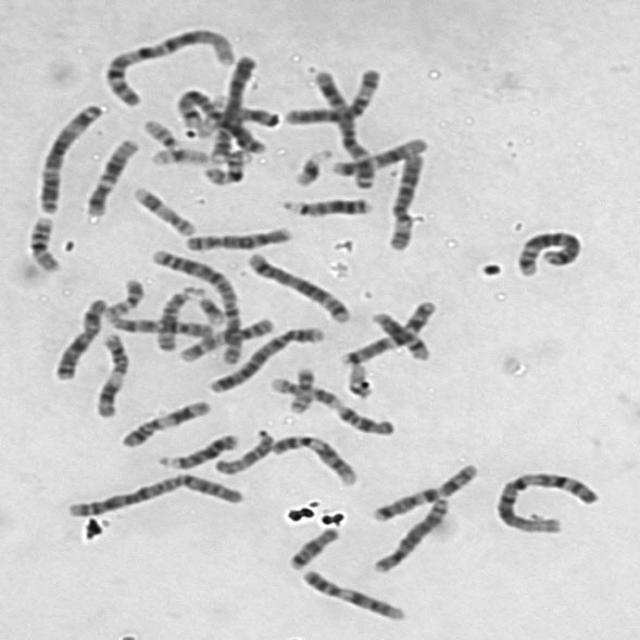A1: (96, 19, 239, 108), (487, 462, 602, 536)
A2: (143, 242, 249, 368), (56, 465, 245, 519)
A3: (304, 62, 377, 190), (30, 96, 106, 215)
B4: (202, 319, 328, 394), (203, 48, 260, 166)
B5: (239, 245, 354, 324), (510, 222, 584, 277)
C10: (171, 310, 277, 363), (100, 307, 216, 340)
C11: (112, 392, 213, 450), (86, 326, 130, 419)
C12: (77, 131, 141, 217), (324, 129, 430, 176)
C6: (277, 60, 386, 127), (378, 146, 428, 252)
C7: (363, 456, 481, 524), (334, 293, 439, 367)
C8: (365, 492, 452, 574), (177, 220, 295, 252)
C9: (294, 562, 408, 623), (264, 426, 360, 487)
D13: (150, 426, 241, 470), (274, 189, 375, 218)
D14: (364, 304, 432, 362), (170, 80, 222, 135)
D15: (147, 280, 203, 354), (207, 423, 277, 476)
E16: (20, 209, 63, 273), (196, 142, 251, 186)
E17: (124, 179, 198, 238), (263, 370, 341, 410)
E18: (280, 520, 342, 571), (330, 399, 396, 436)
F19: (143, 140, 211, 168), (192, 92, 230, 142)
F20: (98, 272, 146, 318), (282, 360, 318, 415)
G21: (286, 141, 334, 188), (190, 289, 228, 326)
G22: (136, 112, 181, 149), (339, 356, 376, 400)
X: (46, 291, 110, 381), (215, 104, 283, 152)
